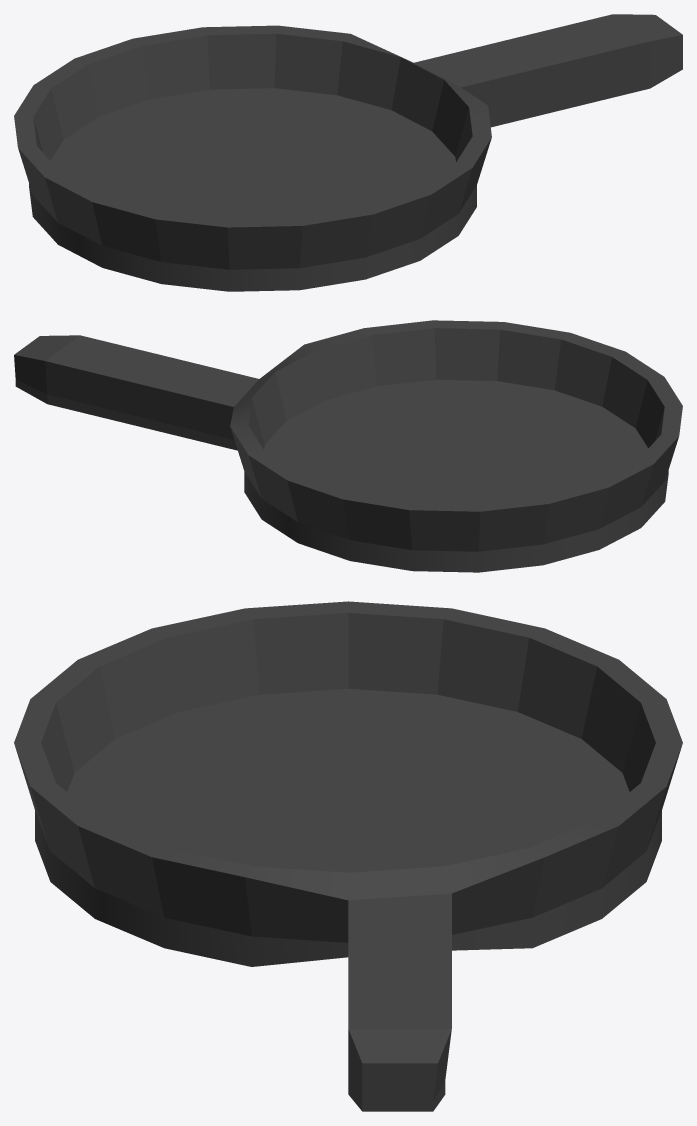
Rendered from Pan.fbx.
The picture shows the model from 3 angles, top to bottom: view 1: azimuth 30°, elevation 25°; view 2: azimuth 150°, elevation 25°; view 3: azimuth 270°, elevation 25°; orthographic projection. The views are drawn at different scales.
Visible parts, largest first — view 1: Pan; view 2: Pan; view 3: Pan.
Boxes of the visible parts, <box> form: Pan: <box>14,14,682,291</box>; Pan: <box>14,320,682,572</box>; Pan: <box>14,601,682,1111</box>.
Size of the model in its own units: 0.5039 by 0.0529 by 0.3262.
